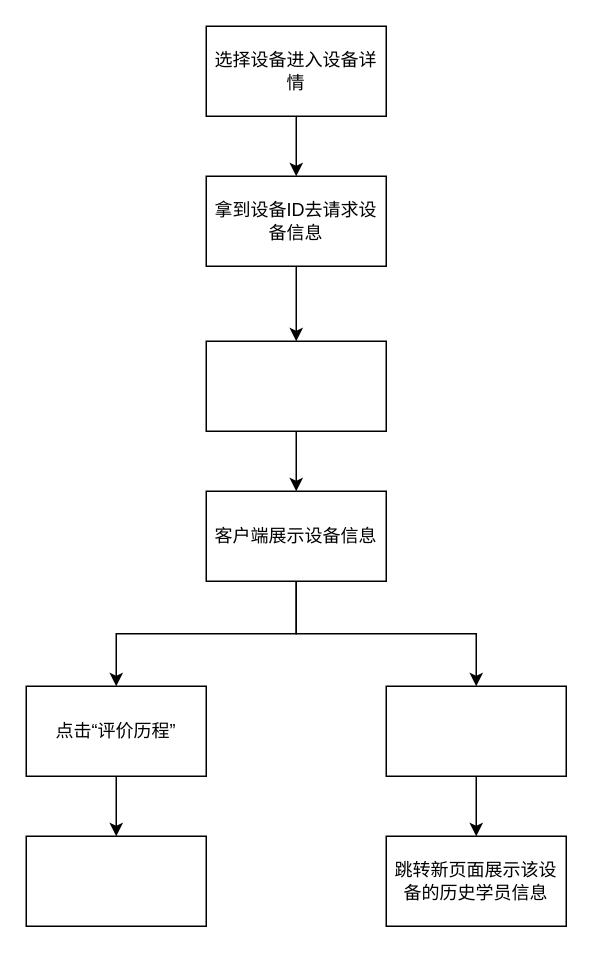
Image size: 593x953. Some labels were removed from this diagram. The centre of each missing label's shape, as x and y in pixels:
"服务端返回设备信息" belongs at (x=295, y=385).
"点击“进入学员”" belongs at (x=475, y=730).
"跳转新页面展示该学员的历史评价历程" belongs at (x=115, y=880).
